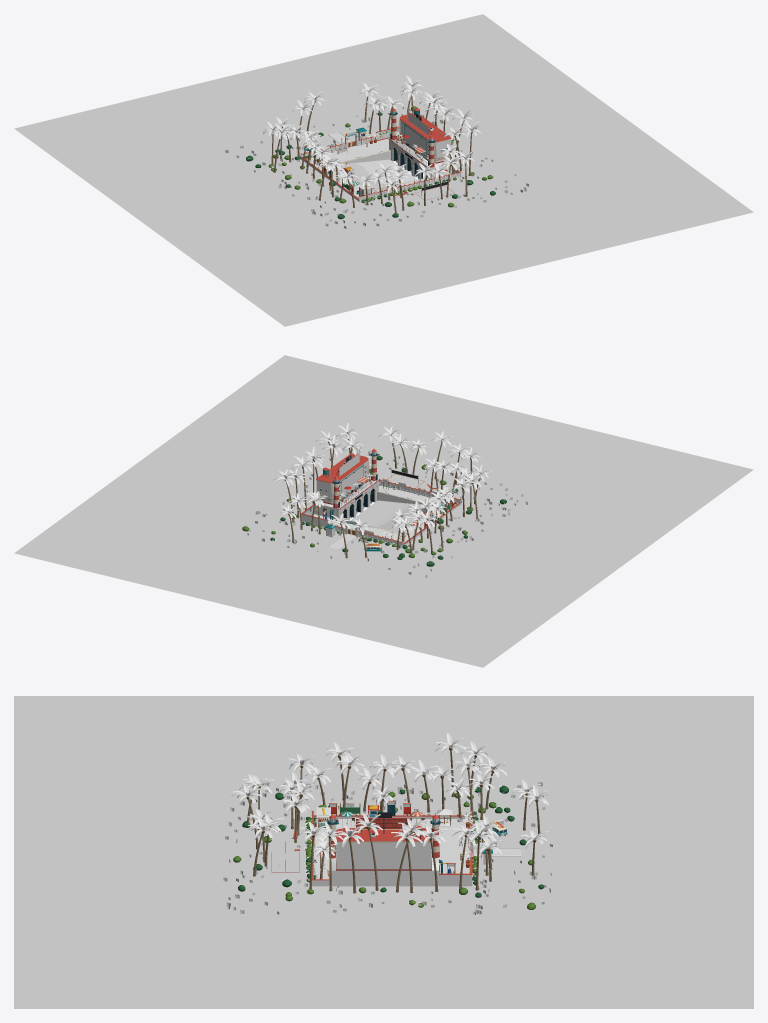
Rendered from wave.glb.
The picture shows the model from 3 angles, top to bottom: view 1: azimuth 30°, elevation 25°; view 2: azimuth 150°, elevation 25°; view 3: azimuth 270°, elevation 25°; orthographic projection. The views are drawn at different scales.
Visible parts, largest first — view 1: S_tile_sand, S_cut, S_satin, S_matte, S_tile_stucco, S_tile_pavers, S_signs, S_tile_glass_mosaic, S_leaf; view 2: S_tile_sand, S_cut, S_satin, S_matte, S_tile_stucco, S_tile_pavers, S_tile_glass_mosaic, S_signs; view 3: S_tile_sand, S_cut, S_matte, S_tile_stucco, S_satin, S_tile_pavers, S_leaf, S_tile_malibu.
Boxes of the visible parts, x1,y1,x2,y2 form: S_tile_sand: (14, 14, 753, 326); S_cut: (225, 75, 528, 228); S_satin: (268, 106, 493, 207); S_matte: (271, 92, 472, 213); S_tile_stucco: (300, 121, 461, 201); S_tile_pavers: (306, 132, 451, 197); S_signs: (324, 112, 435, 196); S_tile_glass_mosaic: (348, 152, 420, 185); S_leaf: (246, 112, 495, 219); S_tile_sand: (14, 355, 753, 667); S_cut: (242, 423, 527, 577); S_satin: (242, 447, 473, 557); S_matte: (285, 435, 480, 558); S_tile_stucco: (301, 462, 461, 545); S_tile_pavers: (311, 485, 456, 549); S_tile_glass_mosaic: (347, 493, 420, 527); S_signs: (311, 453, 454, 536); S_tile_sand: (14, 696, 753, 1008); S_cut: (223, 733, 552, 914); S_matte: (246, 747, 540, 893); S_tile_stucco: (312, 812, 491, 886); S_satin: (233, 756, 538, 909); S_tile_pavers: (313, 819, 521, 886); S_leaf: (238, 785, 544, 897); S_tile_malibu: (313, 816, 491, 879).
Bounding box in the file's own units: 140 × 18.06 × 140.
